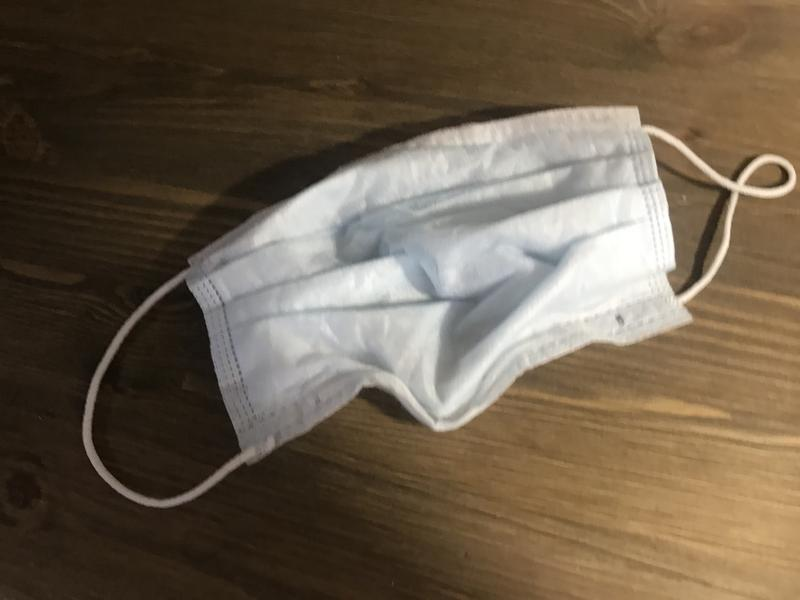medical_mask: (80, 103, 796, 512)
